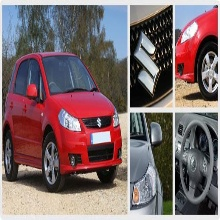no damage: (1, 52, 123, 193), (129, 112, 168, 214), (177, 7, 219, 101)
